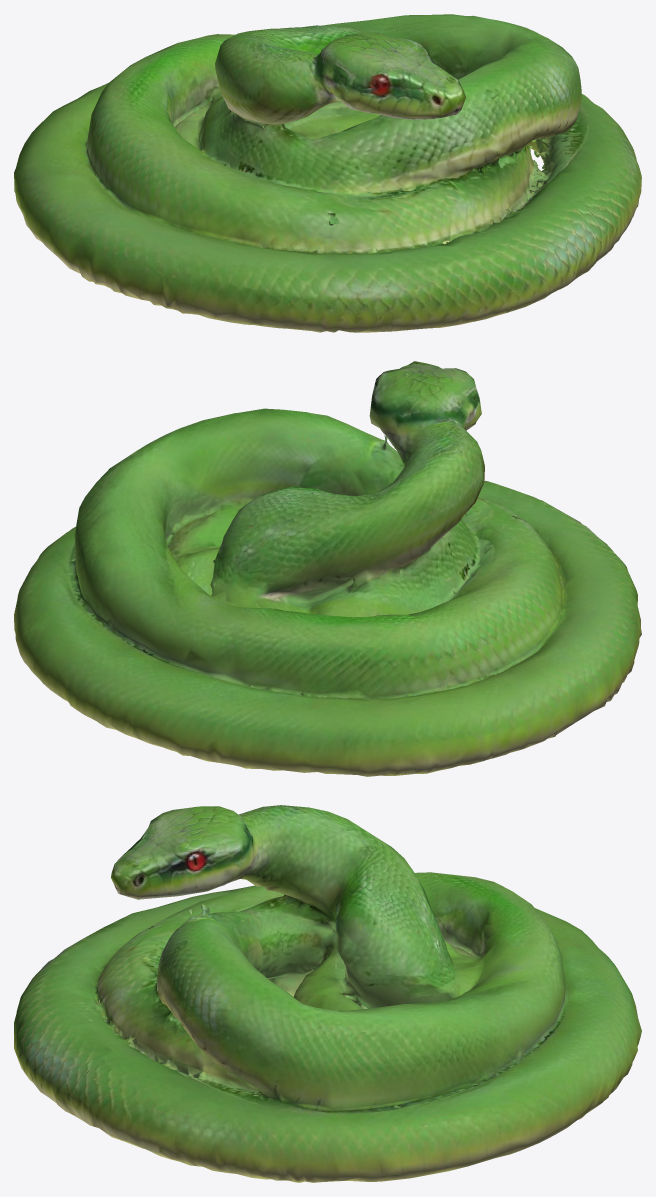
Rendered from flying-snake.glb.
3 renders of one model, top to bottom at view 1: azimuth 30°, elevation 25°; view 2: azimuth 150°, elevation 25°; view 3: azimuth 270°, elevation 25°, orthographic. The views are drawn at different scales.
Bounding box in the file's own units: 1.98 × 0.8162 × 1.97.
Materials: 1 (1 with a texture image).
